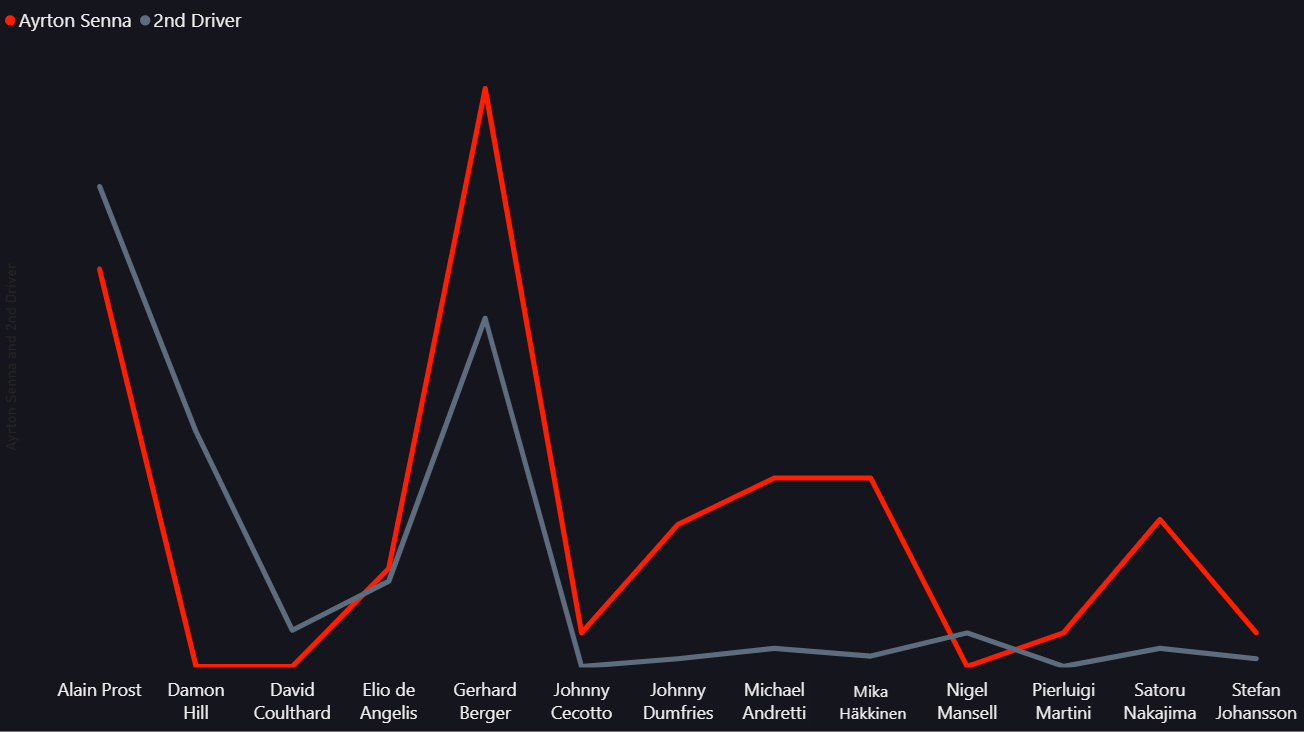

The page's visual inventory and layout, read from the dashboard file:
{"tool":"powerbi","page":{"name":"Aryton Senna","canvas":[1280,720],"ordinal":6},"visuals":[{"type":"lineChart","fields":{"Category":["Ayrton Senna.driver_1","Ayrton Senna.driver_2"],"Y":["Ayrton Senna.driver_1_points","Ayrton Senna.driver_2_points"]},"box":[0,0,1279.9,718.8],"z":0},{"type":"textbox","box":[598,683,129.9,31.4],"z":1}]}

Visuals, with their boxes in screenshot pixels (x1, y1, x2, y2), scaled from the page's 1280x720 canvas onto the 1304x732 screenshot:
lineChart - Ayrton Senna.driver_1 x Ayrton Senna.driver_2: (0,0,1303,731)
textbox: (609,694,742,726)
